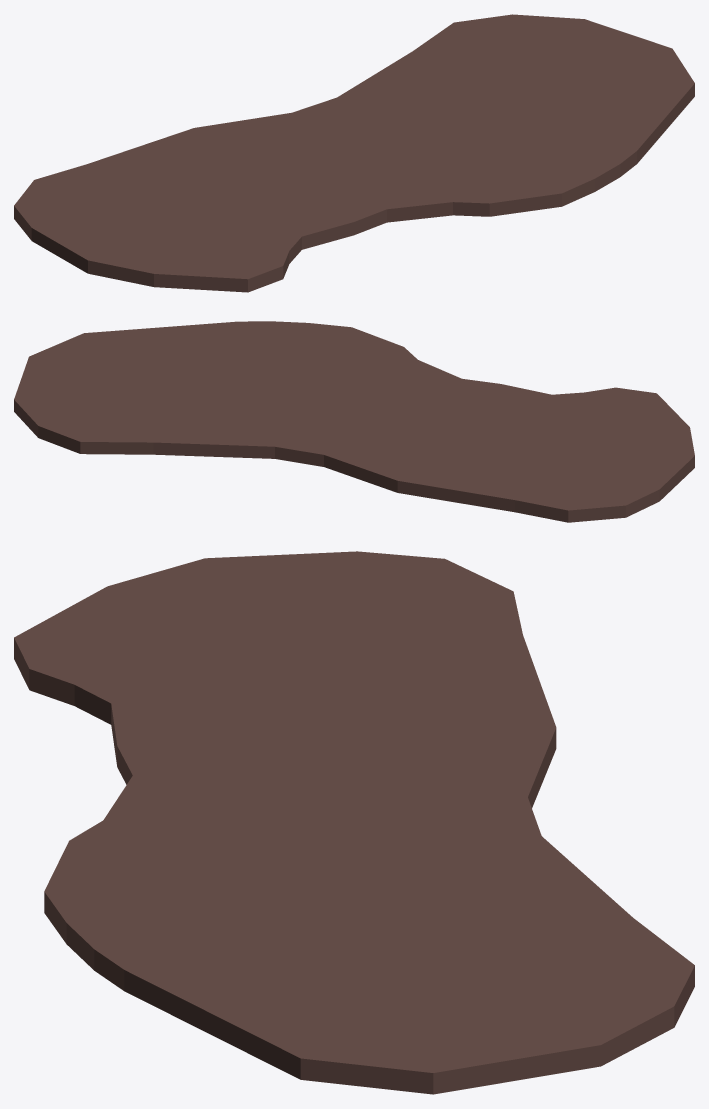
The model's file is Sand 19.FBX.
3 views of the same model, one above another, from view 1: azimuth 30°, elevation 25°; view 2: azimuth 150°, elevation 25°; view 3: azimuth 270°, elevation 25° (orthographic). The views are drawn at different scales.
Visible parts, largest first — view 1: Plane001; view 2: Plane001; view 3: Plane001.
Boxes of the visible parts, left/top/right/bottom form: Plane001: left=14, top=14, right=694, bottom=292; Plane001: left=14, top=321, right=694, bottom=522; Plane001: left=14, top=551, right=694, bottom=1094.
Bounding box in the file's own units: 114 × 2.18 × 62.96.
